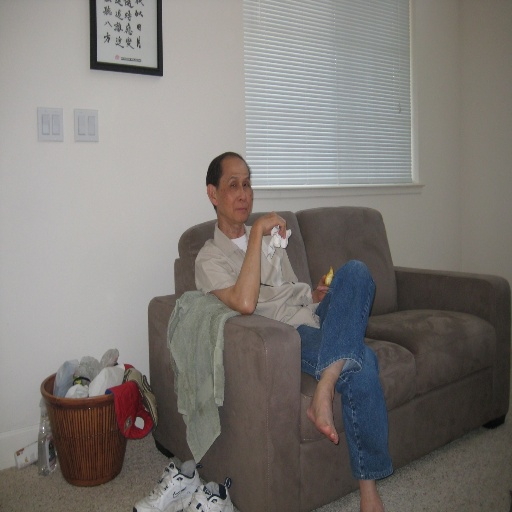hand: (261, 210, 286, 235), (316, 272, 329, 299)
